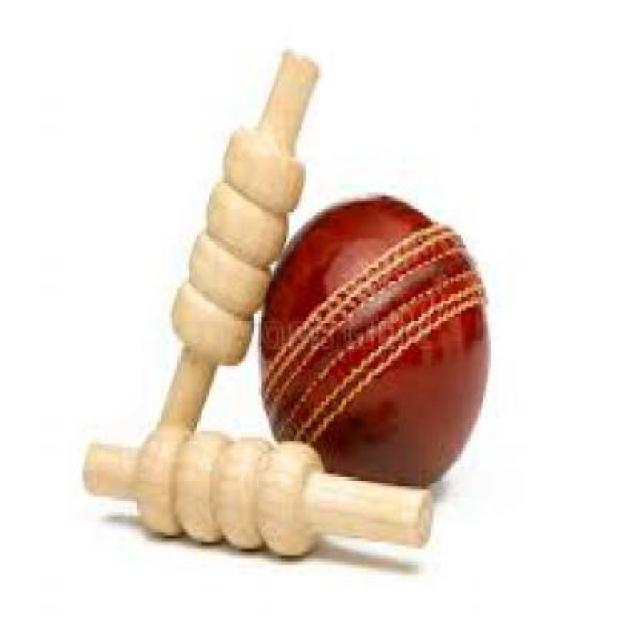ball: (227, 178, 524, 490)
